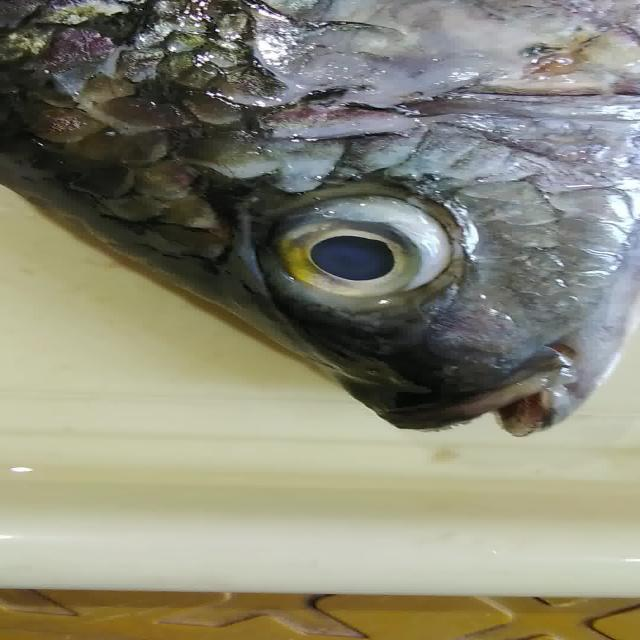Fresh: (217, 172, 531, 318)
